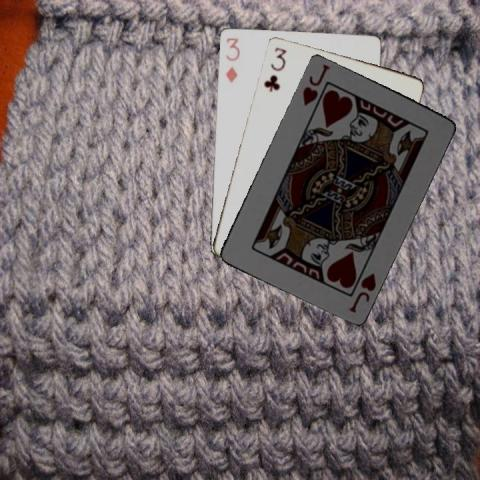3c: (261, 44, 287, 93)
3d: (223, 34, 241, 84)
Jh: (300, 60, 332, 107), (346, 269, 378, 314)
